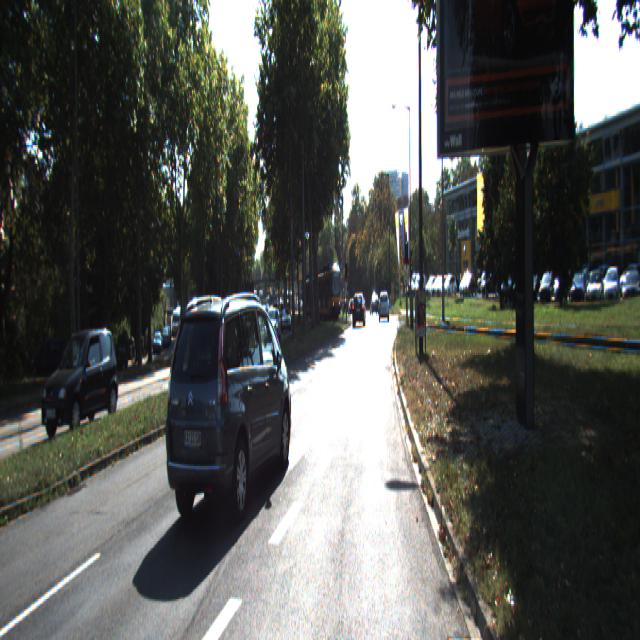Car: (164, 279, 293, 537), (40, 323, 120, 438), (308, 267, 341, 322), (214, 311, 243, 367), (263, 307, 282, 343), (352, 293, 366, 327), (379, 292, 389, 322)
